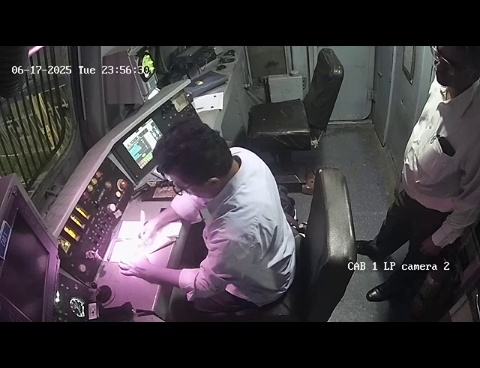horn_inactive: (80, 271, 119, 312)
